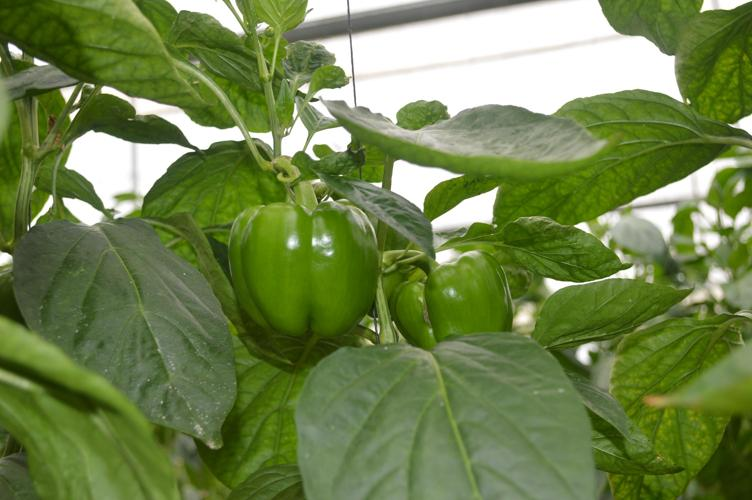BellPepper: (227, 203, 377, 339), (392, 247, 508, 344)
